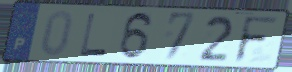0: (38, 9, 77, 59)
2: (197, 14, 236, 63)
6: (118, 10, 158, 62)
7: (159, 11, 197, 65)
F: (232, 15, 282, 65)
L: (78, 12, 110, 57)
